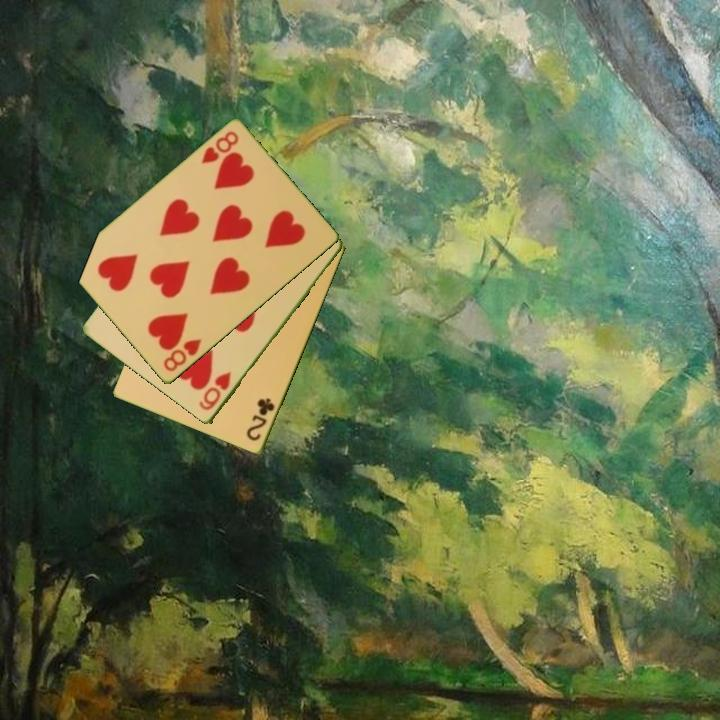2c: (243, 395, 278, 444)
6h: (195, 368, 234, 414)
8h: (160, 335, 205, 375), (198, 128, 242, 167)
